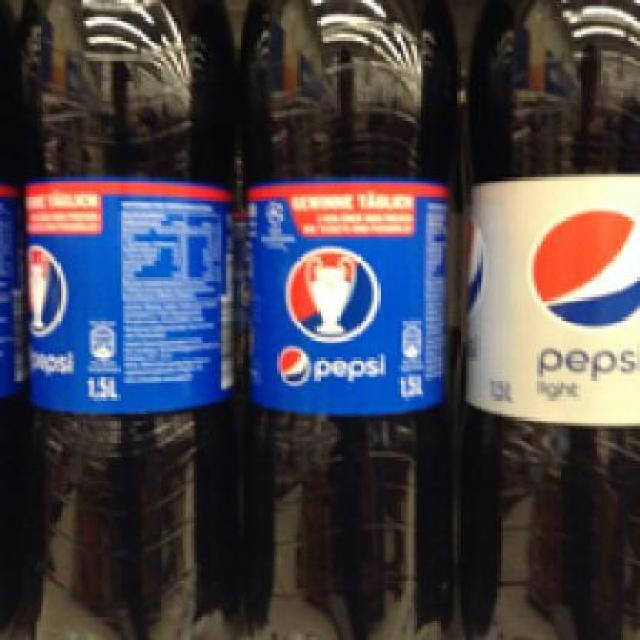Soda: (11, 0, 238, 637), (230, 0, 452, 635), (457, 5, 634, 638)
